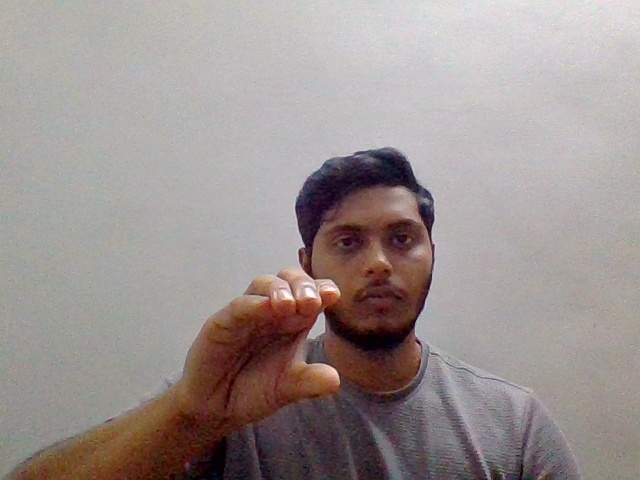No: (162, 259, 347, 444)
